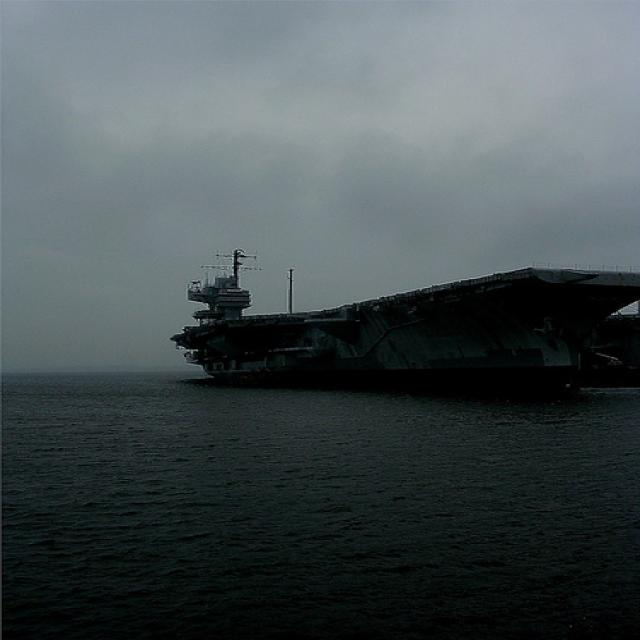Boat: (152, 219, 640, 414)
